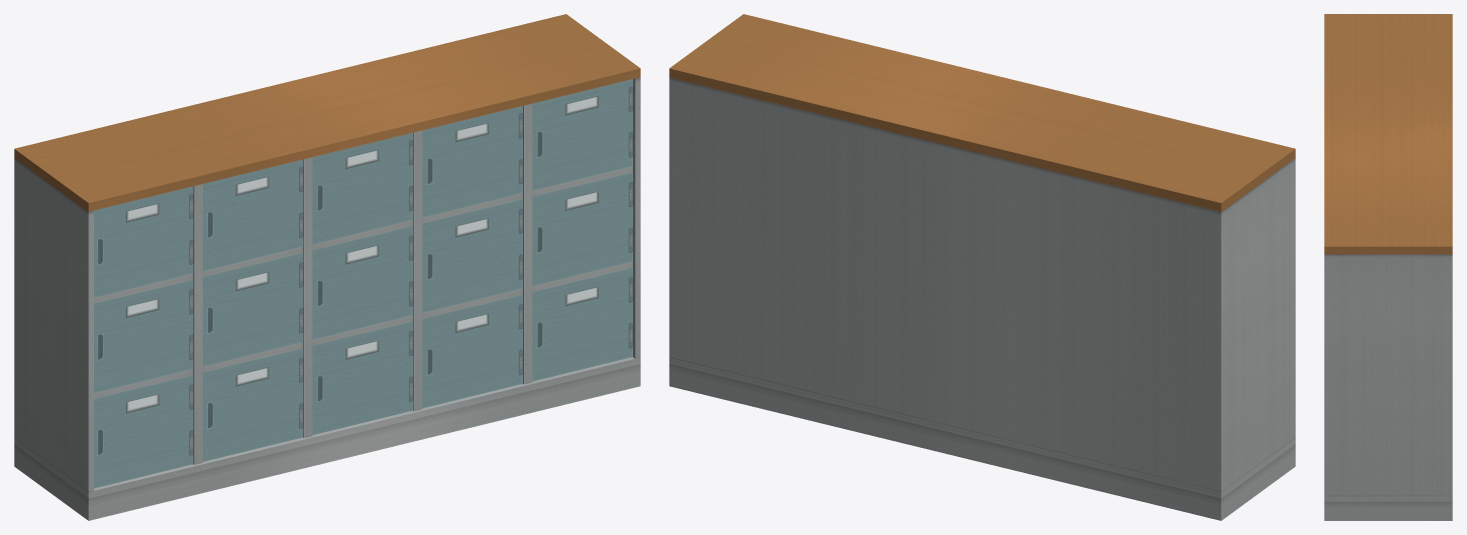
The model's file is Rack_03_01.fbx.
The picture shows the model from 3 angles, left to right: view 1: azimuth 30°, elevation 25°; view 2: azimuth 150°, elevation 25°; view 3: azimuth 270°, elevation 25°; orthographic projection. The views are drawn at different scales.
Visible parts, largest first — view 1: rack03_01, door03, door02, door07, door10, door04, door05, door08, door09, door01, door06, door15 (+4 smaller); view 2: rack03_01; view 3: rack03_01.
Part boxes in pixels (x1=…): rack03_01: x1=14, y1=14, x2=640, y2=520; door03: x1=312, y1=321, x2=413, y2=435; door02: x1=202, y1=348, x2=303, y2=461; door07: x1=202, y1=252, x2=303, y2=366; door10: x1=312, y1=226, x2=413, y2=339; door04: x1=422, y1=294, x2=522, y2=408; door05: x1=532, y1=267, x2=632, y2=381; door08: x1=422, y1=199, x2=522, y2=312; door09: x1=532, y1=172, x2=632, y2=285; door01: x1=94, y1=375, x2=193, y2=488; door06: x1=94, y1=279, x2=193, y2=392; door15: x1=312, y1=133, x2=413, y2=244; rack03_01: x1=669, y1=14, x2=1295, y2=520; rack03_01: x1=1324, y1=14, x2=1452, y2=520.
Bounding box in the file's own units: 200 × 110 × 46.69.
